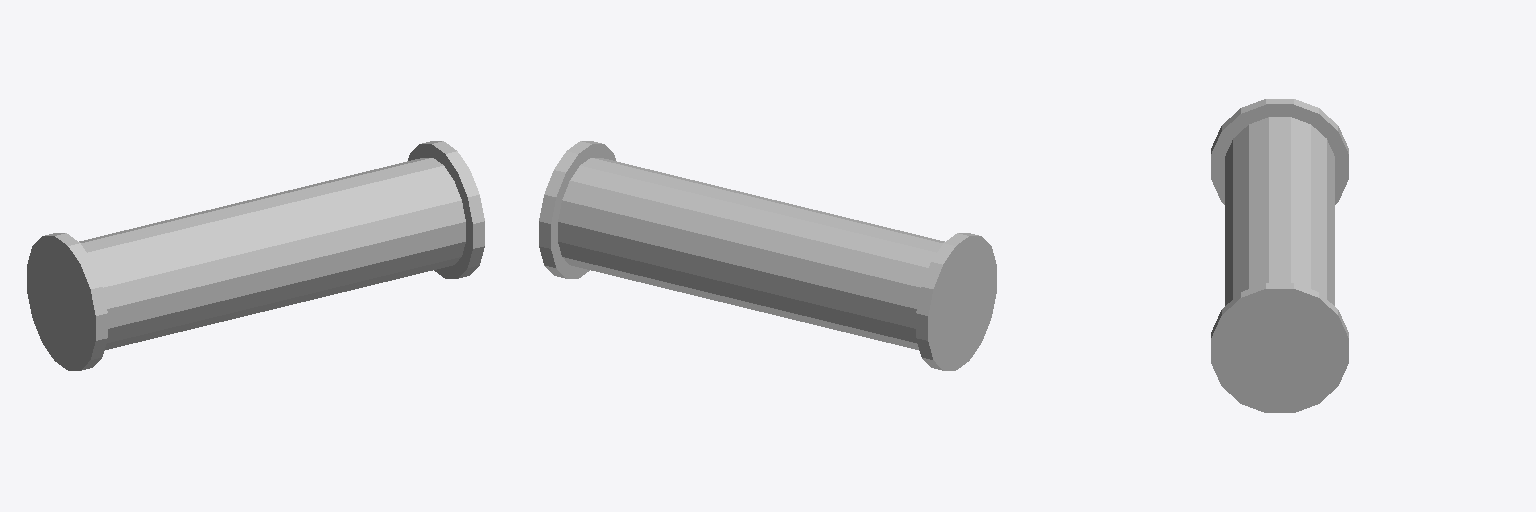
The model's file is pipeworks_pipe_3.obj.
3 views of the same model, side by side, from view 1: azimuth 30°, elevation 25°; view 2: azimuth 150°, elevation 25°; view 3: azimuth 270°, elevation 25° (orthographic).
Visible parts, largest first — view 1: Cube.001; view 2: Cube.001; view 3: Cube.001.
Part boxes in pixels (left/top/right/bottom): Cube.001: left=27, top=141, right=484, bottom=370; Cube.001: left=539, top=141, right=996, bottom=370; Cube.001: left=1211, top=99, right=1348, bottom=412.
Bounding box in the file's own units: 1 × 0.3065 × 0.3065.